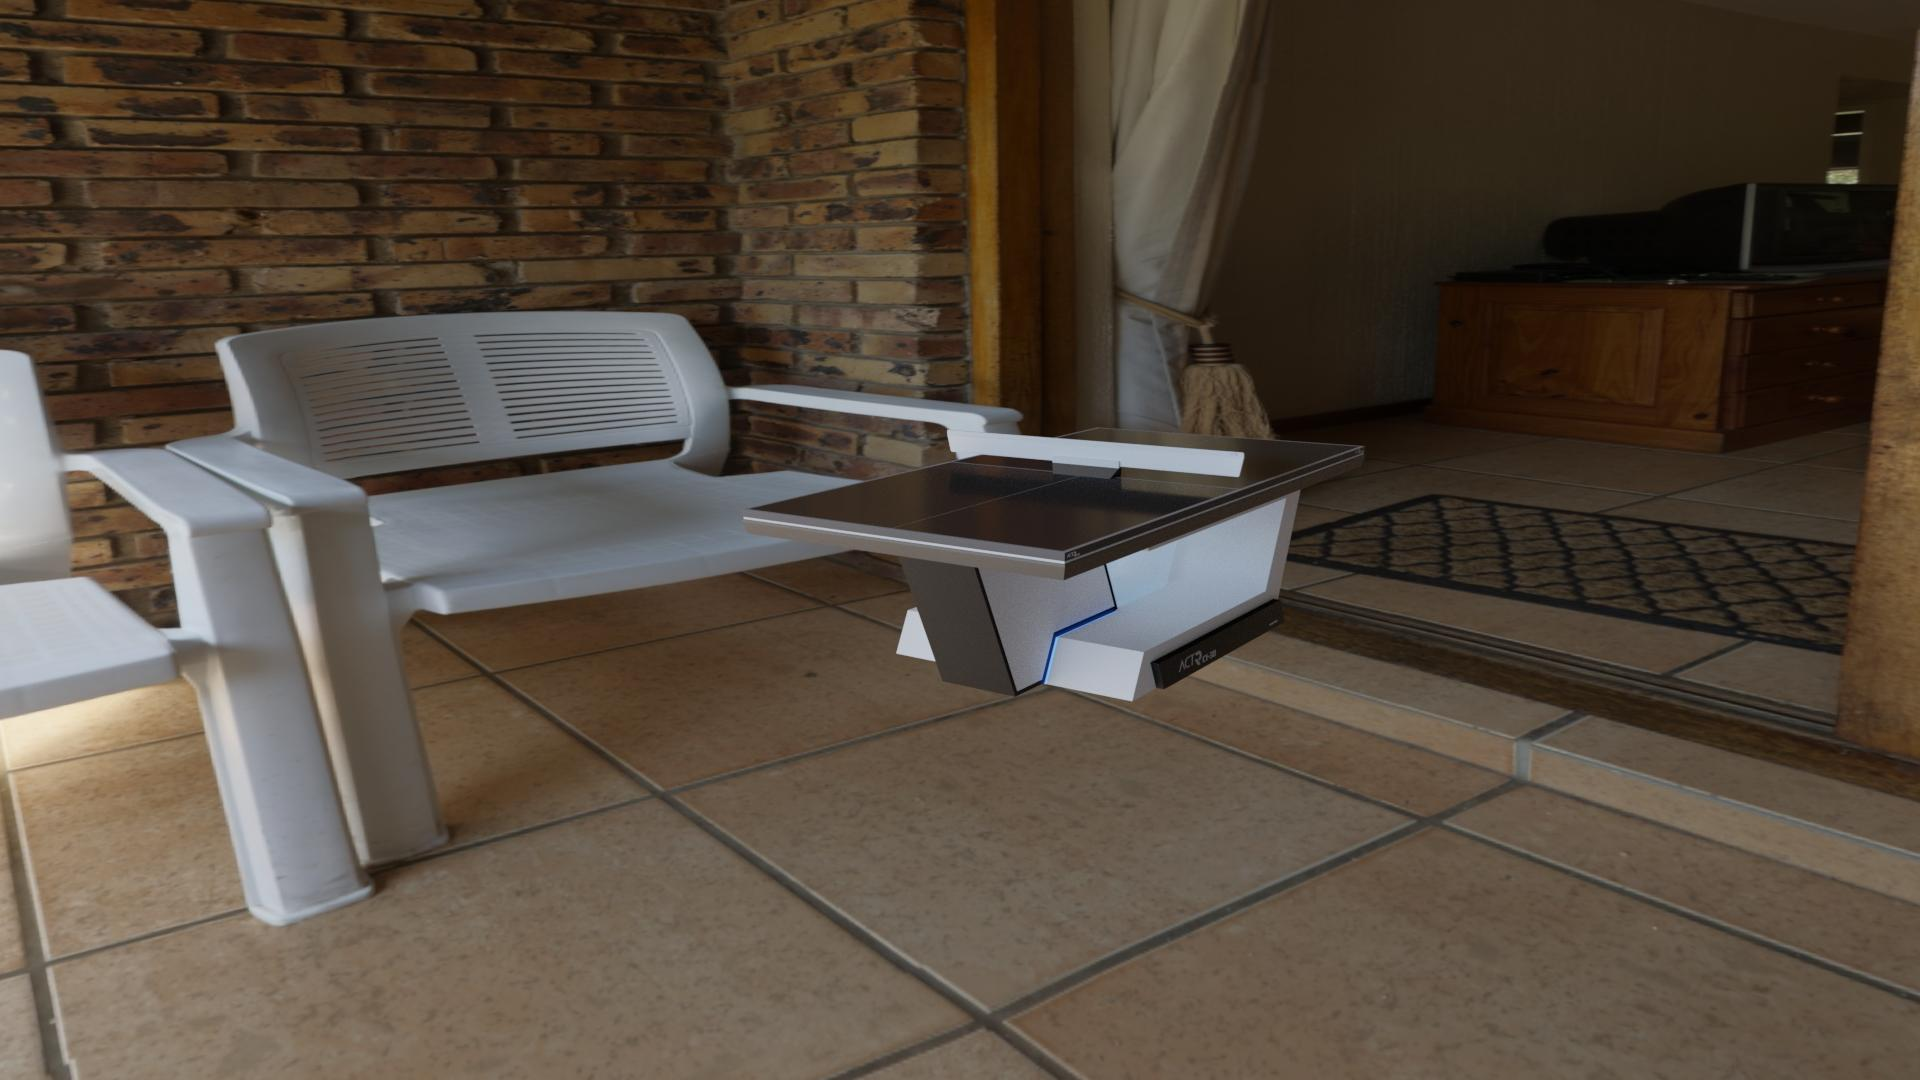table: (748, 429, 1360, 551)
